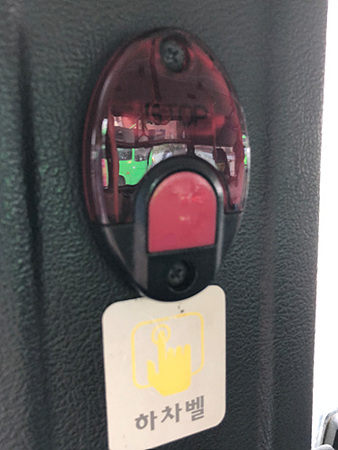bell: (78, 26, 252, 301)
